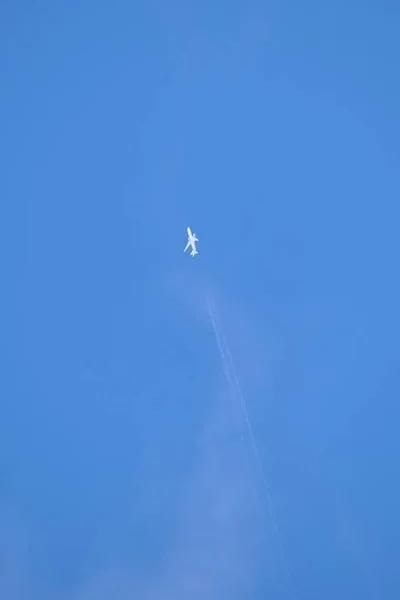Plane: (173, 215, 208, 270)
